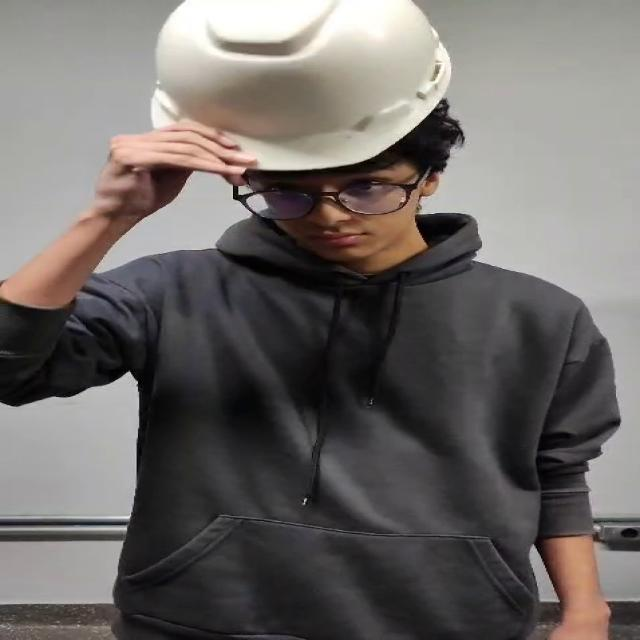capacete: (100, 1, 487, 202)
